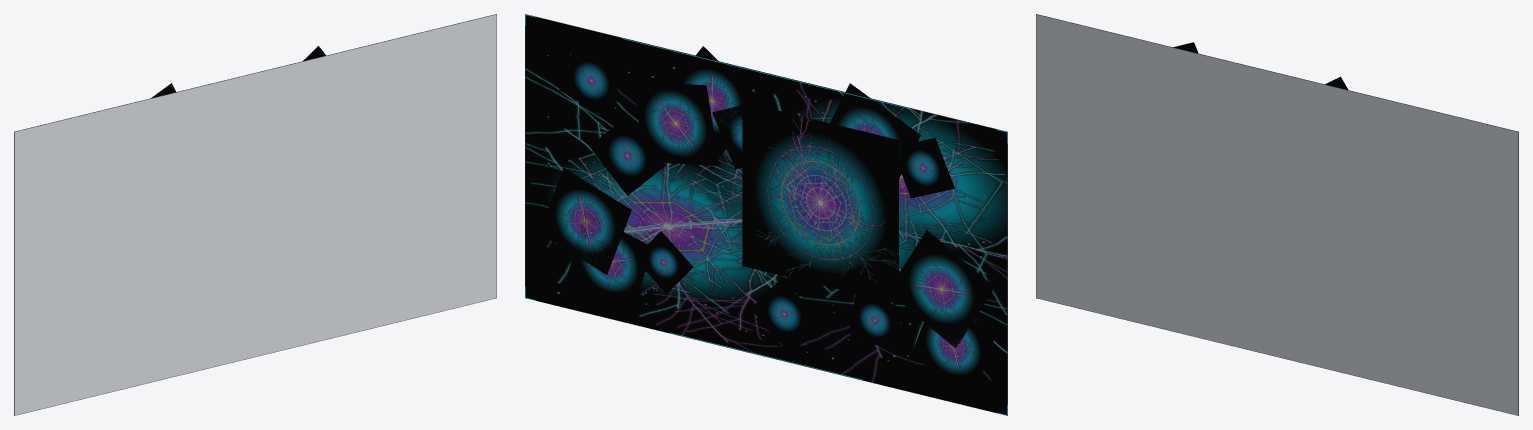
The model's file is screen_decals_tachyon_lance.fbx.
The picture shows the model from 3 angles, left to right: view 1: azimuth 30°, elevation 25°; view 2: azimuth 150°, elevation 25°; view 3: azimuth 330°, elevation 25°; orthographic projection.
Parts seen in each view (by area): view 1: Translucent_Clear_Screen, Solid_Back_Panel, Frame_005m_Thick; view 2: Decal_BrokenSpiderWeb_Screen, Decal_BrokenSpiderWeb_Core, Decal_MissileStrike_03, Decal_MissileStrike_02, Decal_MissileStrike_04, Decal_MissileStrike_06, Decal_MissileStrike_07, Decal_LaserBurn_02, Decal_LaserBurn_05, Decal_MissileStrike_08, Decal_MissileStrike_05, Decal_LaserBurn_08 (+7 smaller); view 3: Translucent_Clear_Screen, Solid_Back_Panel, Frame_005m_Thick.
Part boxes in pixels (x1=…): Translucent_Clear_Screen: x1=14, y1=14, x2=496, y2=415; Solid_Back_Panel: x1=14, y1=14, x2=496, y2=415; Frame_005m_Thick: x1=14, y1=14, x2=496, y2=415; Decal_BrokenSpiderWeb_Screen: x1=525, y1=15, x2=1007, y2=414; Decal_BrokenSpiderWeb_Core: x1=742, y1=102, x2=898, y2=303; Decal_MissileStrike_03: x1=899, y1=230, x2=994, y2=348; Decal_MissileStrike_02: x1=632, y1=81, x2=719, y2=166; Decal_MissileStrike_04: x1=539, y1=168, x2=631, y2=274; Decal_MissileStrike_06: x1=567, y1=213, x2=651, y2=312; Decal_MissileStrike_07: x1=911, y1=321, x2=995, y2=394; Decal_LaserBurn_02: x1=589, y1=116, x2=665, y2=195; Decal_LaserBurn_05: x1=559, y1=43, x2=623, y2=118; Decal_MissileStrike_08: x1=673, y1=46, x2=761, y2=155; Decal_MissileStrike_05: x1=830, y1=83, x2=920, y2=178; Decal_LaserBurn_08: x1=751, y1=278, x2=818, y2=349; Translucent_Clear_Screen: x1=1036, y1=14, x2=1518, y2=415; Solid_Back_Panel: x1=1036, y1=14, x2=1518, y2=415; Frame_005m_Thick: x1=1036, y1=14, x2=1518, y2=415.
Bounding box in the file's own units: 1.6 × 0.9371 × 0.00155.
9 materials, 5 textured.
